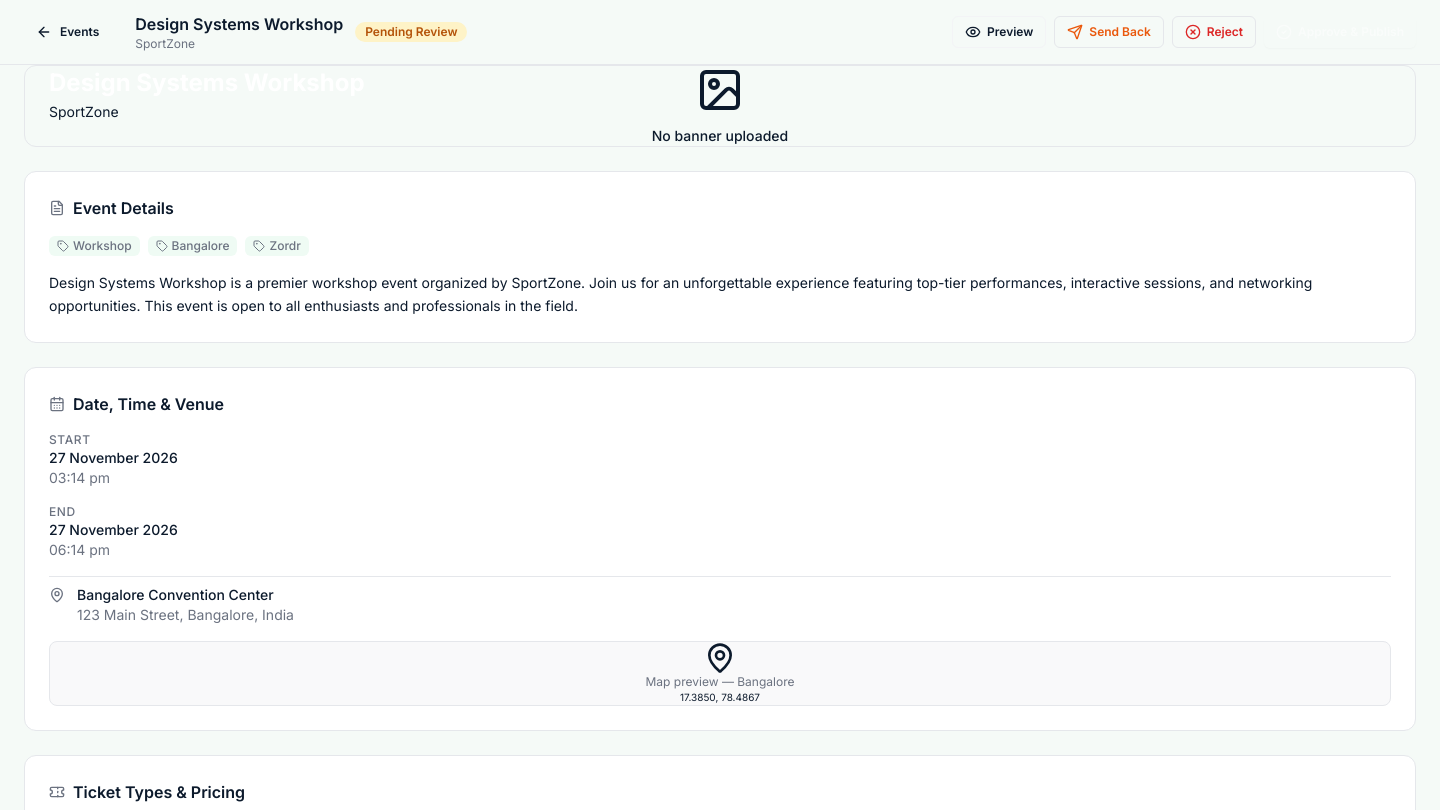
Test: EventReviewView › Send Back dialog is disabled without notes (< 10 chars)
Click the button "Send Back": (1109, 32) [1054,16,1164,48]
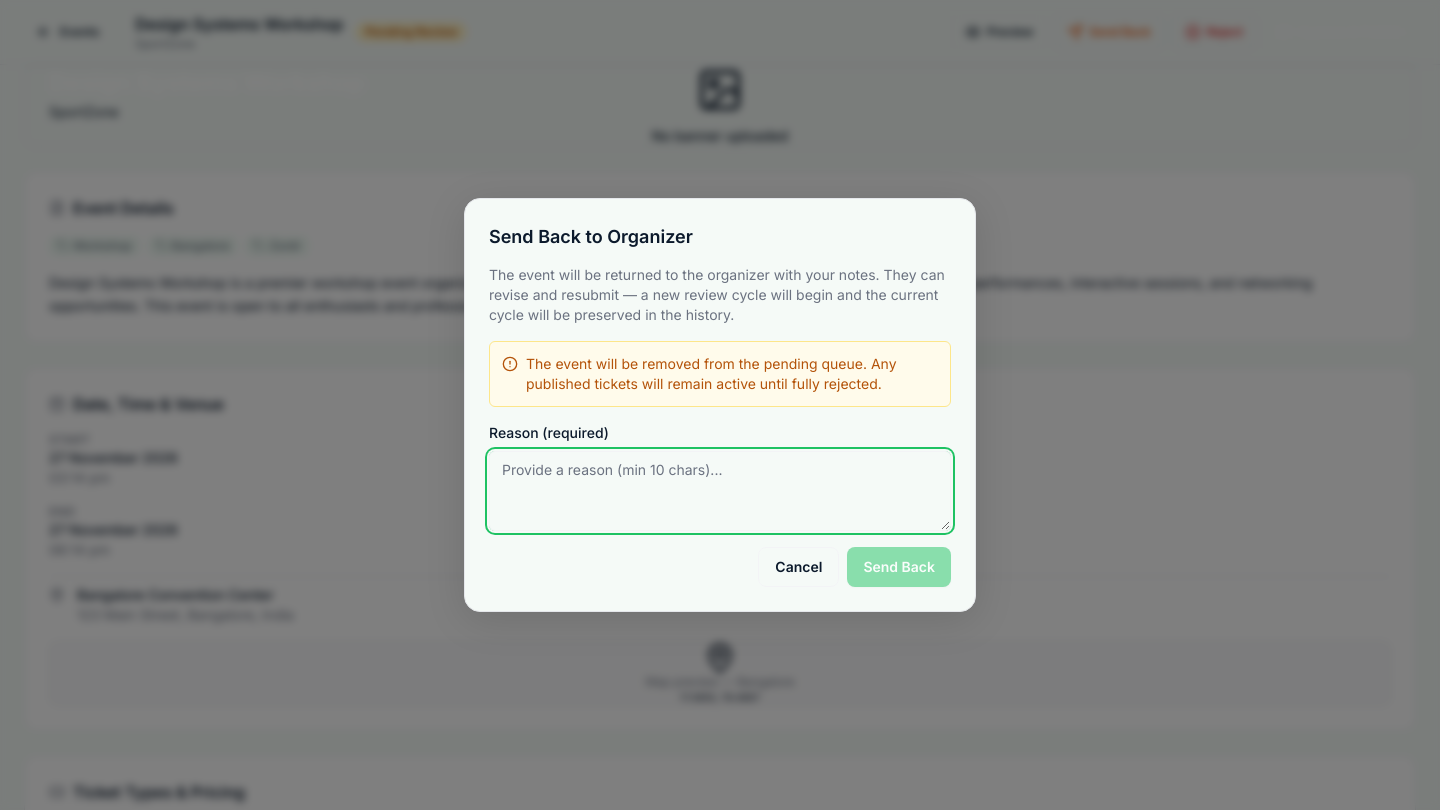
Check: the button "Send Back" is disabled, box [847,547,951,587]
